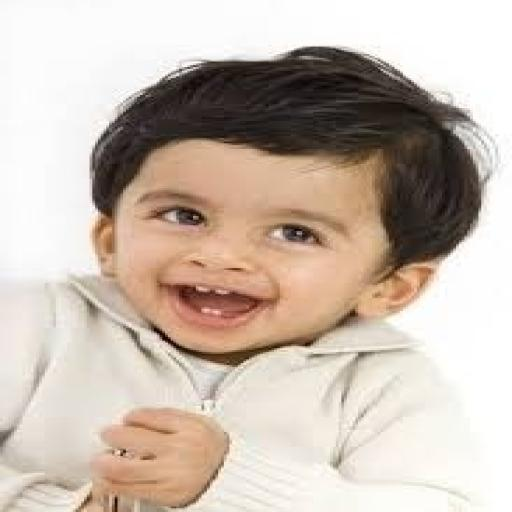laughing: (3, 41, 501, 510)
